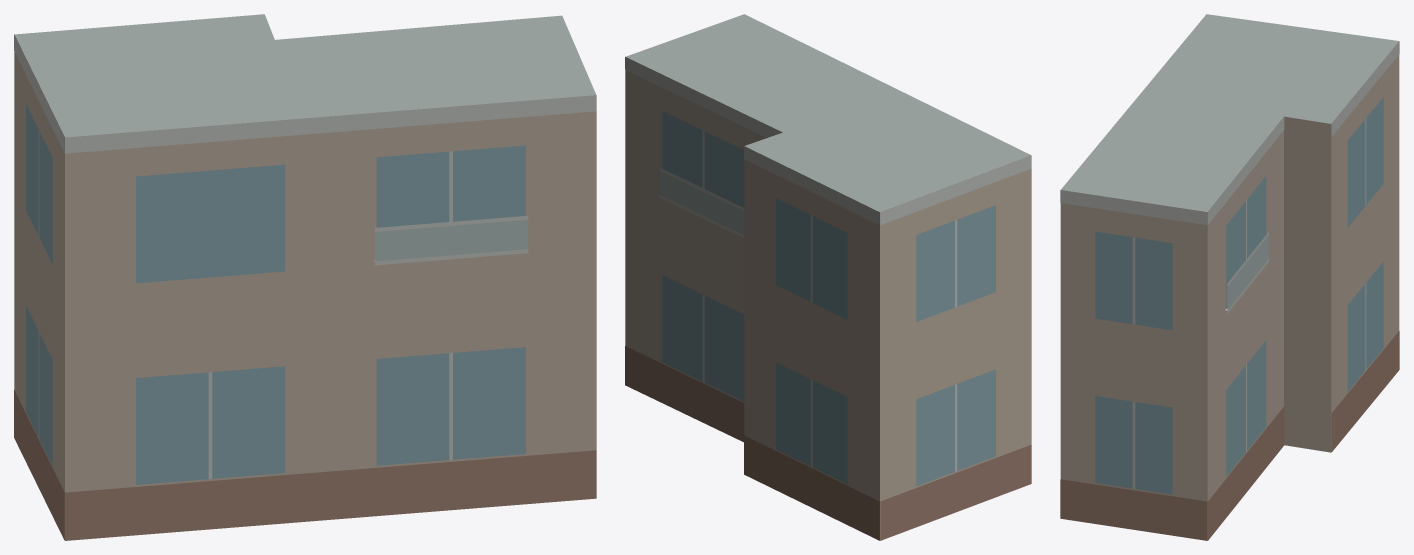
Rendered from survey-upis-32547344.glb.
The picture shows the model from 3 angles, left to right: view 1: azimuth 30°, elevation 25°; view 2: azimuth 150°, elevation 25°; view 3: azimuth 270°, elevation 25°; orthographic projection. The views are drawn at different scales.
Parts seen in each view (by area): view 1: survey-upis-32547344.tmp; view 2: survey-upis-32547344.tmp; view 3: survey-upis-32547344.tmp.
Part boxes in pixels (x1,y1,x2,y2): survey-upis-32547344.tmp: [14, 14, 596, 540]; survey-upis-32547344.tmp: [625, 14, 1031, 540]; survey-upis-32547344.tmp: [1060, 14, 1399, 540].
Size of the model in its own units: 7.89 by 6.1 by 5.71.
